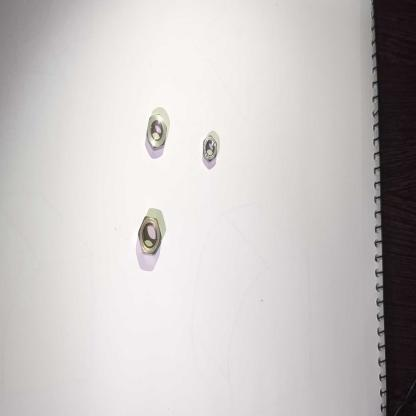NUTS: (136, 212, 164, 259), (145, 111, 168, 153), (201, 130, 219, 163)
